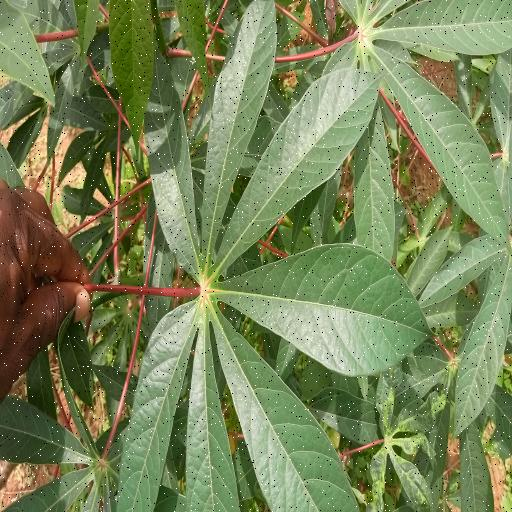Cassava_Healthy: (118, 0, 431, 512)
